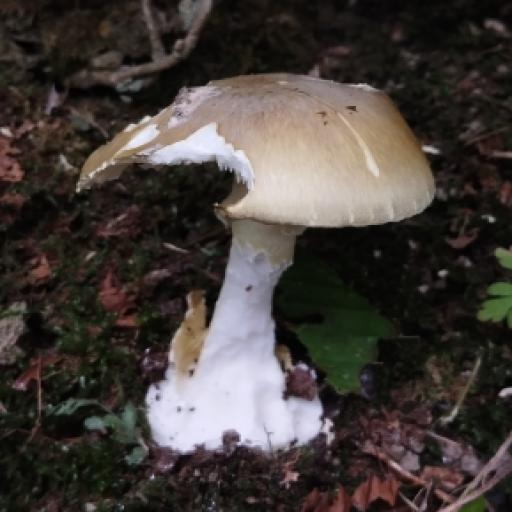mushroom: (52, 23, 500, 488)
